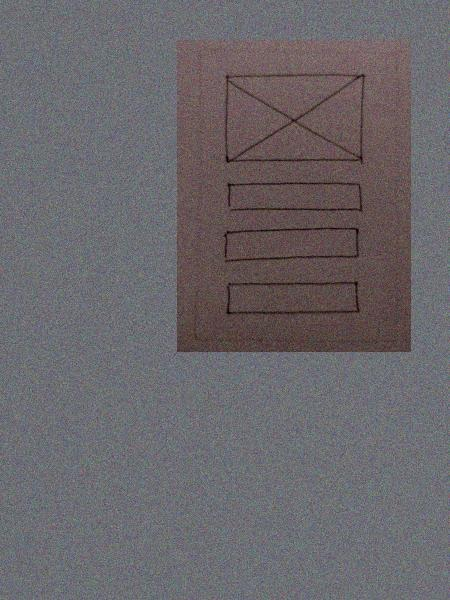image: (221, 70, 367, 170)
text_input: (219, 275, 367, 319), (221, 224, 361, 265), (222, 181, 364, 214)
